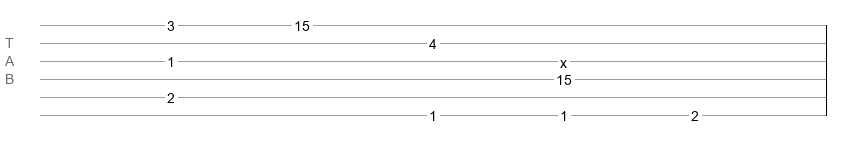1: (167, 54, 175, 64), (429, 108, 437, 118), (560, 108, 568, 118)
15: (294, 18, 310, 28), (556, 72, 572, 82)
2: (167, 90, 175, 100), (691, 108, 699, 118)
3: (167, 18, 175, 28)
4: (429, 36, 437, 46)
x: (560, 55, 567, 63)
